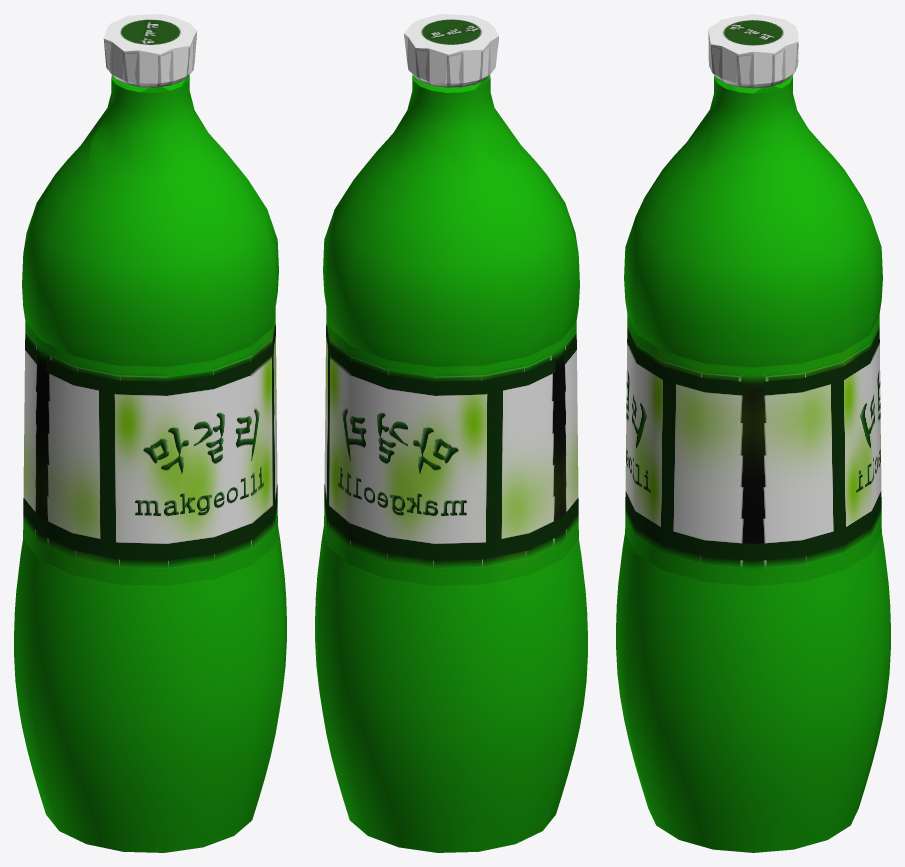
File: 막걸리 1.fbx
The picture shows the model from 3 angles, left to right: view 1: azimuth 30°, elevation 25°; view 2: azimuth 150°, elevation 25°; view 3: azimuth 270°, elevation 25°; orthographic projection.
Visible parts, largest first — view 1: body, cap; view 2: body, cap; view 3: body, cap.
Part boxes in pixels (x1,y1,x2,y2): body: [14, 74, 286, 852]; cap: [103, 14, 197, 87]; body: [315, 74, 587, 852]; cap: [404, 14, 498, 87]; body: [616, 75, 890, 852]; cap: [708, 14, 798, 88].
Size of the model in its own units: 79.53 by 248 by 79.53.
Materials: 2 (2 with a texture image).
